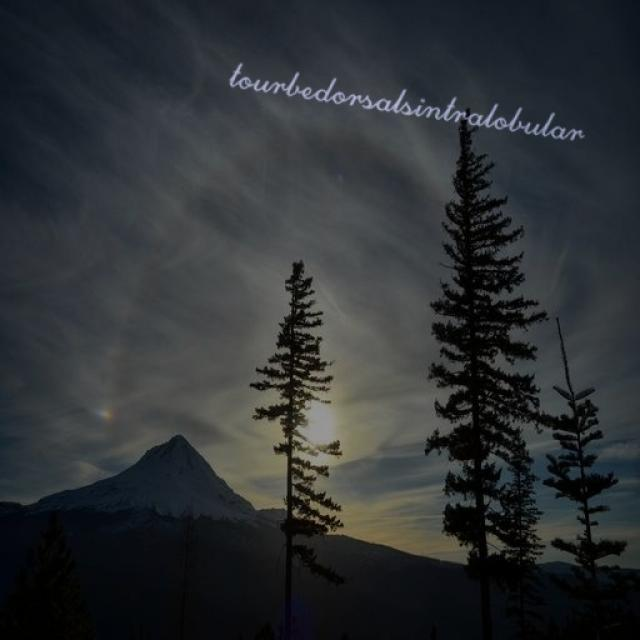watermark: (220, 59, 608, 148)
